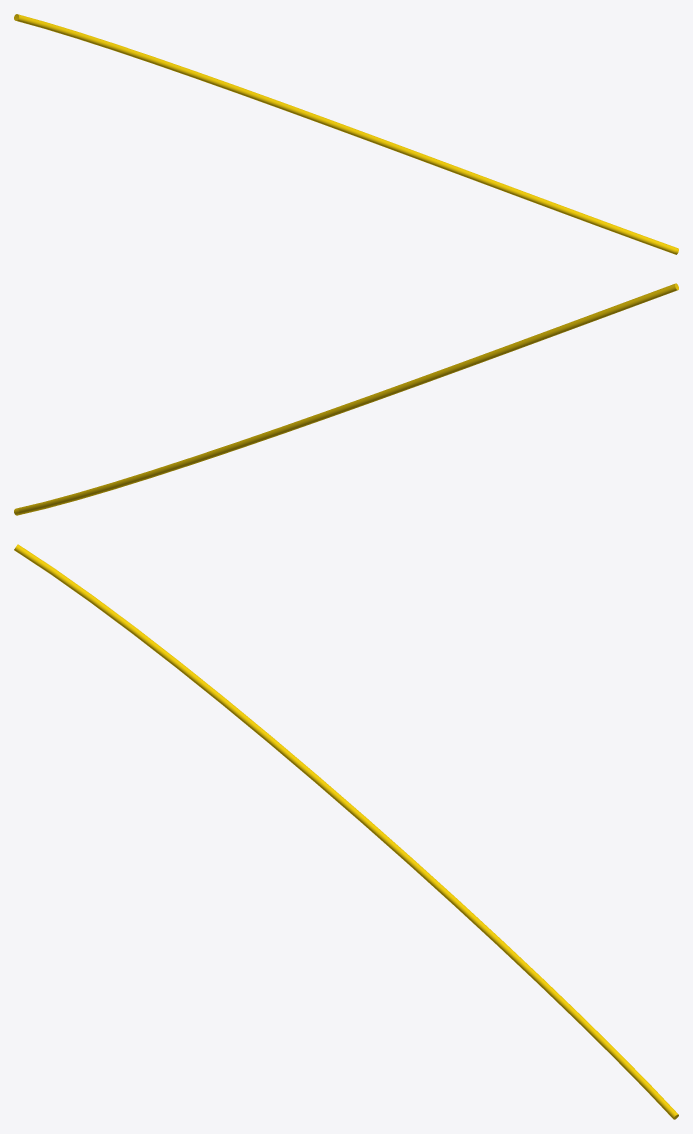
The model's file is Event_420094457_track_20.fbx.
3 views of the same model, one above another, from view 1: azimuth 30°, elevation 25°; view 2: azimuth 150°, elevation 25°; view 3: azimuth 330°, elevation 25° (orthographic). The views are drawn at different scales.
Visible parts, largest first — view 1: Model; view 2: Model; view 3: Model.
Part boxes in pixels (left/top/right/bottom): Model: left=14, top=14, right=678, bottom=254; Model: left=14, top=283, right=678, bottom=515; Model: left=14, top=544, right=678, bottom=1119.
Size of the model in its own units: 4.32 by 2.47 by 0.3094.
